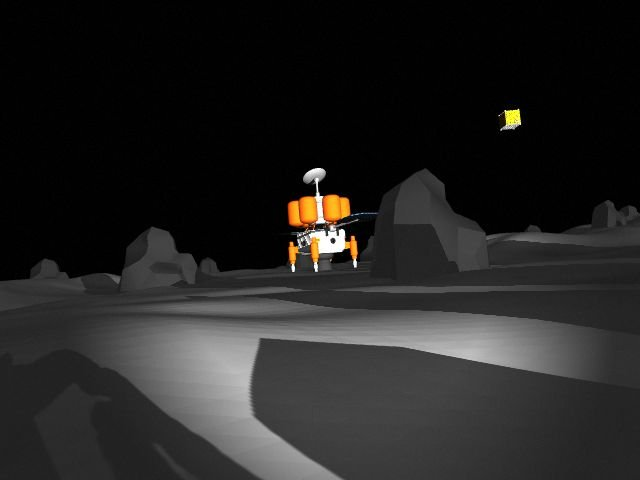homebase: (264, 166, 380, 270)
